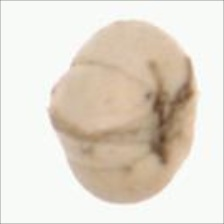L5: (43, 59, 156, 138), (152, 55, 198, 165)
L6: (43, 18, 199, 208)
